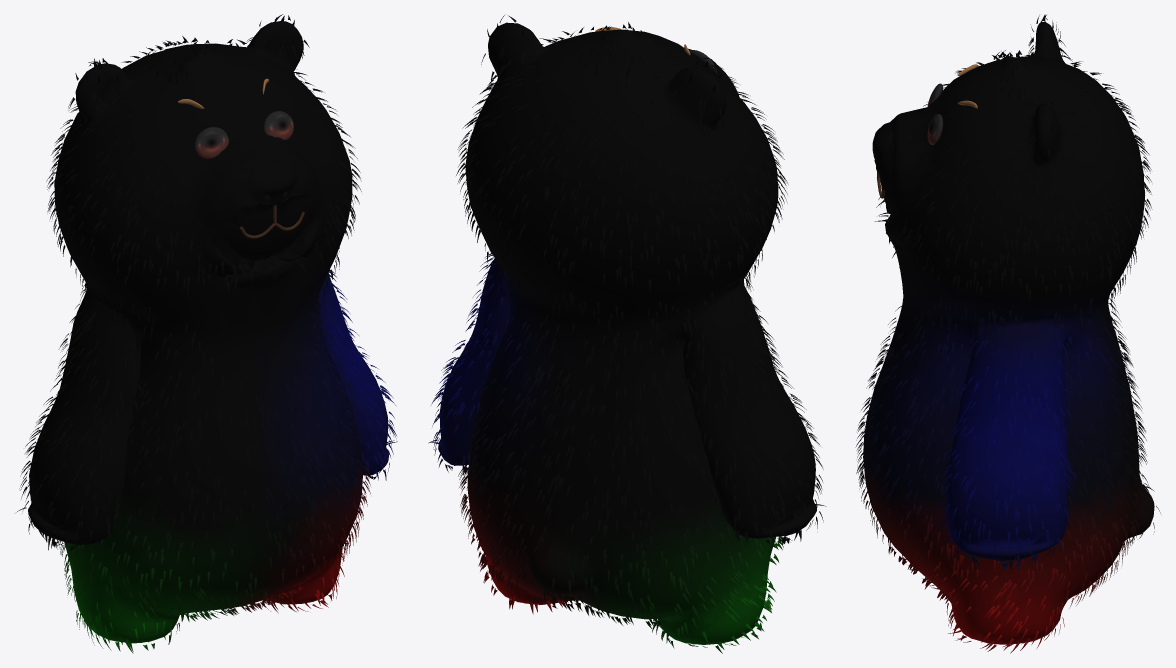
Rendered from bear_shell_v14.glb.
The picture shows the model from 3 angles, left to right: view 1: azimuth 30°, elevation 25°; view 2: azimuth 150°, elevation 25°; view 3: azimuth 270°, elevation 25°; orthographic projection. The views are drawn at different scales.
Parts seen in each view (by area): view 1: BoundedShellGroom, Body, LayeredCurvedGroom, BrownBear_Normal; view 2: BoundedShellGroom, LayeredCurvedGroom, Body; view 3: BoundedShellGroom, LayeredCurvedGroom, Body, BrownBear_Normal.
Boxes of the visible parts, x1,y1,x2,y2 form: BoundedShellGroom: (28, 20, 389, 643); Body: (29, 25, 381, 641); LayeredCurvedGroom: (16, 14, 397, 653); BrownBear_Normal: (194, 111, 293, 158); BoundedShellGroom: (438, 22, 816, 644); LayeredCurvedGroom: (428, 14, 826, 653); Body: (440, 24, 813, 635); BoundedShellGroom: (863, 21, 1154, 644); LayeredCurvedGroom: (855, 14, 1160, 653); Body: (864, 25, 1147, 622); BrownBear_Normal: (927, 83, 943, 144).
Size of the model in its own units: 1.64 by 2.53 by 1.28.
Materials: 6 (4 with a texture image).
